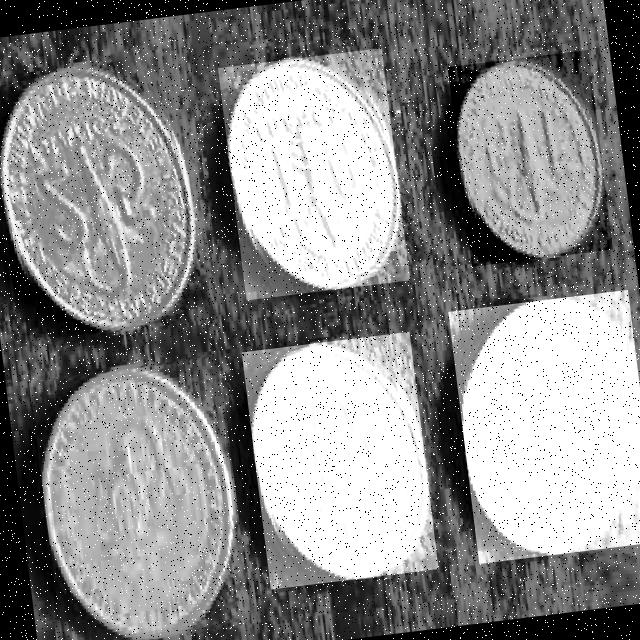derem: (457, 59, 603, 257)
juroom derem: (2, 65, 196, 329)
niaari derem: (228, 59, 400, 287)
niaari fukk: (466, 299, 640, 552)
nient fukk: (253, 343, 429, 577)
teemeer: (43, 366, 235, 638)
